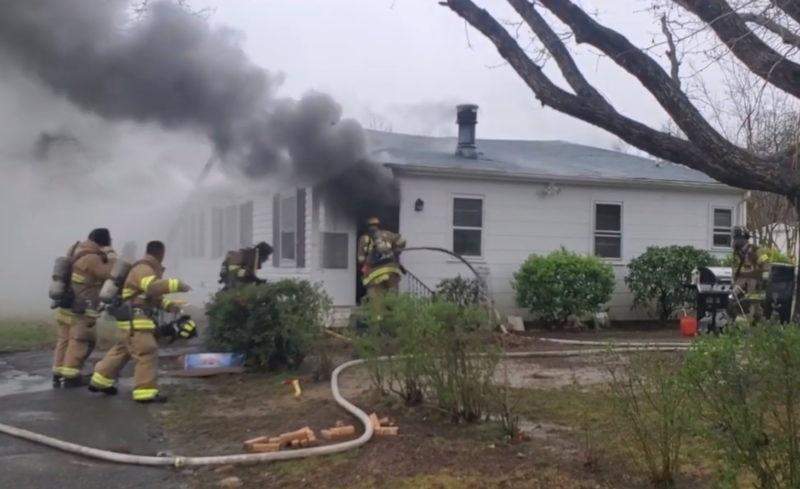smoke: (120, 25, 249, 123), (313, 139, 369, 194)
